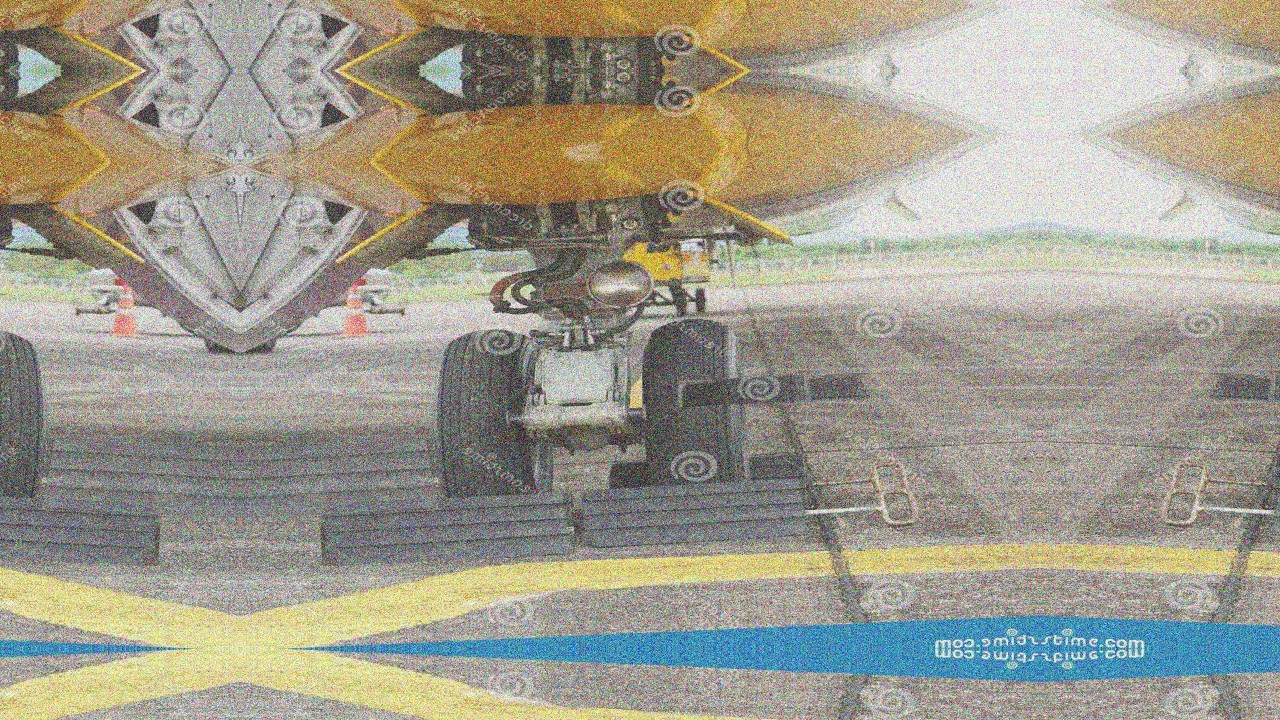chock: (319, 492, 575, 566), (40, 439, 240, 522), (240, 439, 440, 522), (577, 479, 810, 546), (0, 492, 161, 566), (604, 451, 814, 489), (678, 373, 869, 408), (1211, 373, 1280, 408)
wheel: (433, 328, 560, 533), (636, 315, 748, 485), (0, 328, 47, 533)
